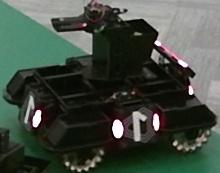armor_1: (113, 113, 160, 138)
